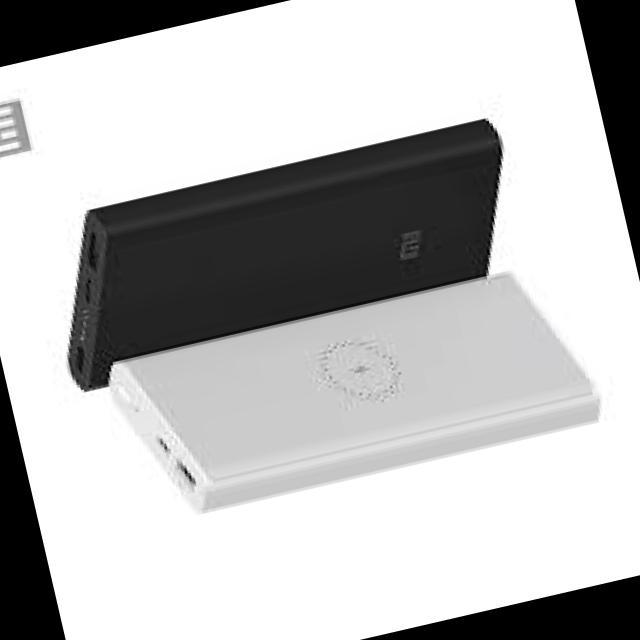power_bank: (23, 106, 539, 400), (100, 254, 604, 527)
